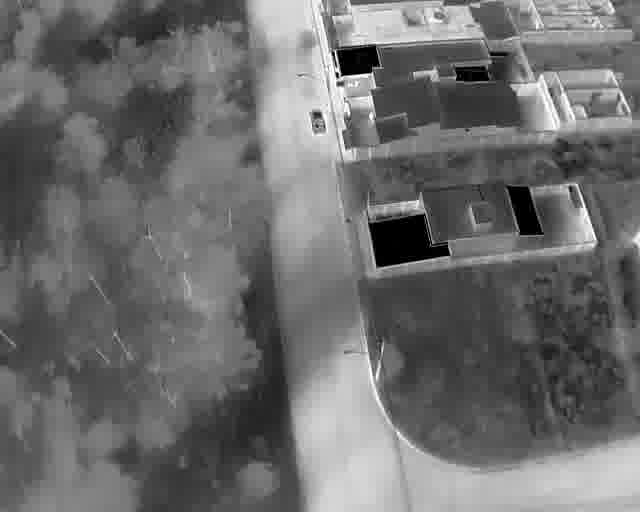car: (308, 109, 327, 134)
